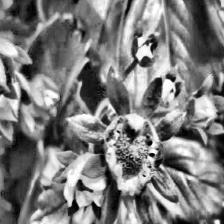Blossom Blight: (102, 117, 163, 189)
